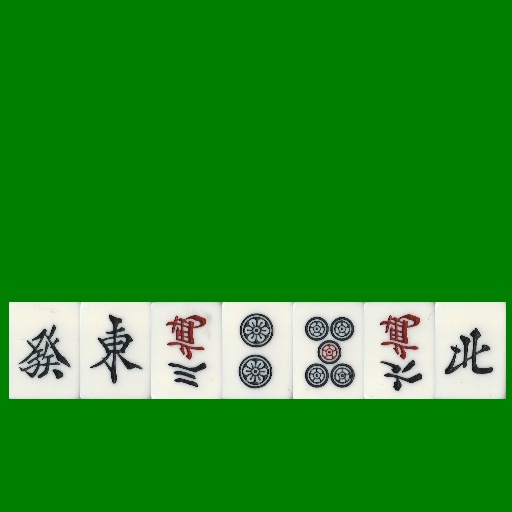2p: (222, 302, 293, 399)
3m: (151, 302, 222, 399)
5p: (293, 302, 364, 399)
6m: (364, 302, 435, 399)
east: (80, 302, 151, 399)
hatsu: (9, 302, 80, 399)
north: (435, 302, 506, 399)
